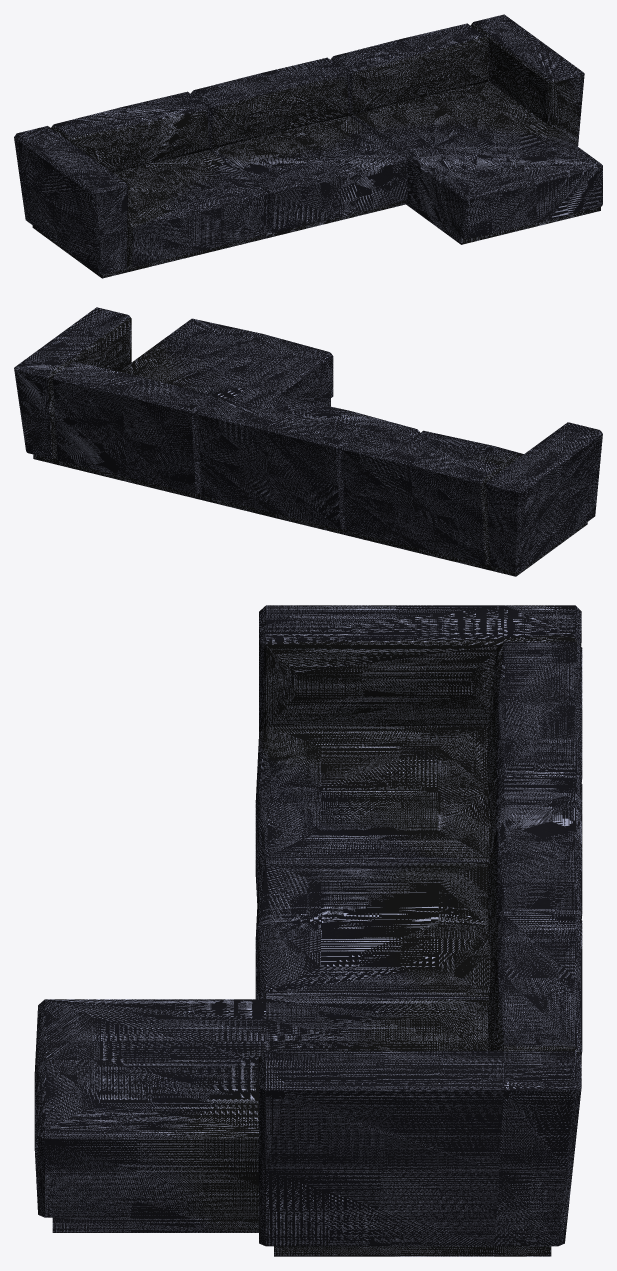
3 views of the same model, one above another, from view 1: azimuth 30°, elevation 25°; view 2: azimuth 150°, elevation 25°; view 3: azimuth 270°, elevation 25° (orthographic). The views are drawn at different scales.
Parts seen in each view (by area): view 1: sofa_moder; view 2: sofa_moder; view 3: sofa_moder.
Boxes of the visible parts, <box> form: sofa_moder: <box>14,14,602,278</box>; sofa_moder: <box>14,307,602,576</box>; sofa_moder: <box>34,605,582,1256</box>.
Size of the model in its own units: 132 by 63.38 by 23.9.
2 materials, 1 textured.
